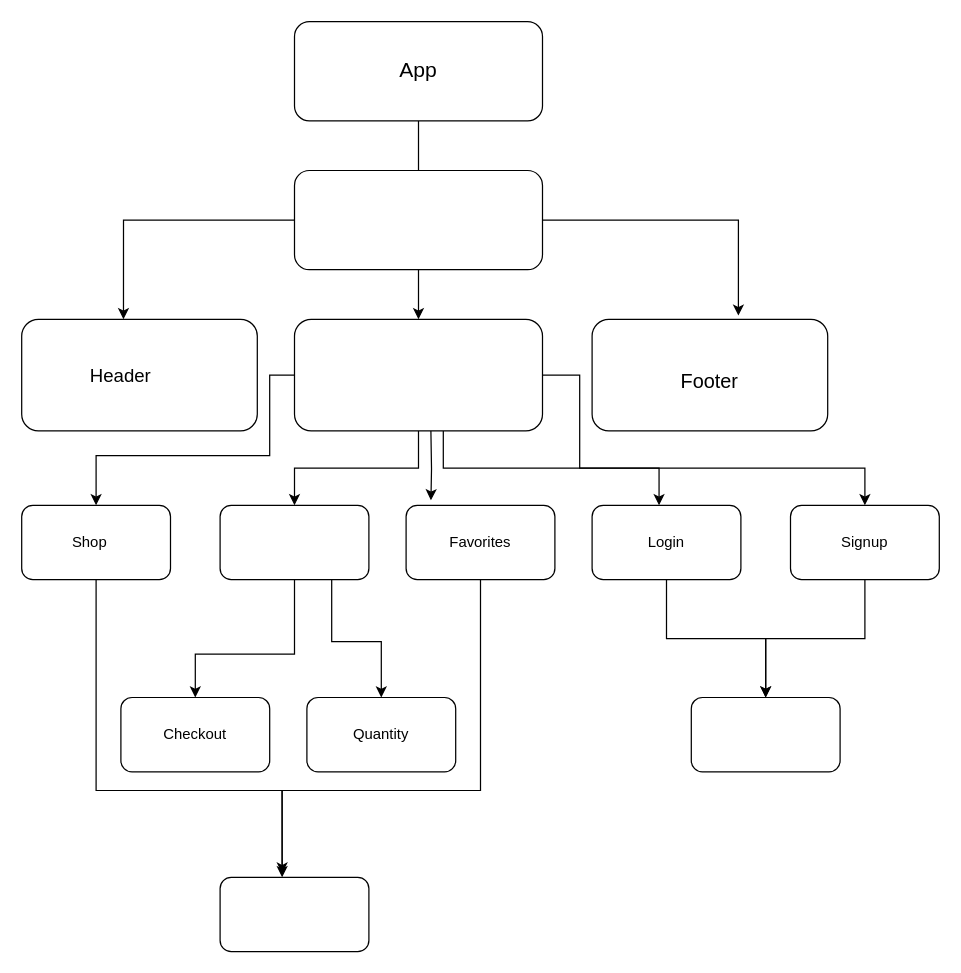
This 961x973 diagram has some shape labels left out. Each missing label, with the box of its shape:
Card: (219, 876, 369, 952)
Children: (293, 318, 542, 431)
Layout: (293, 169, 542, 270)
Payment: (219, 504, 369, 580)
Textfield: (690, 696, 840, 772)
